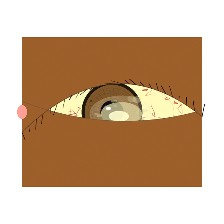corneal_ulcer: (88, 87, 155, 141)
